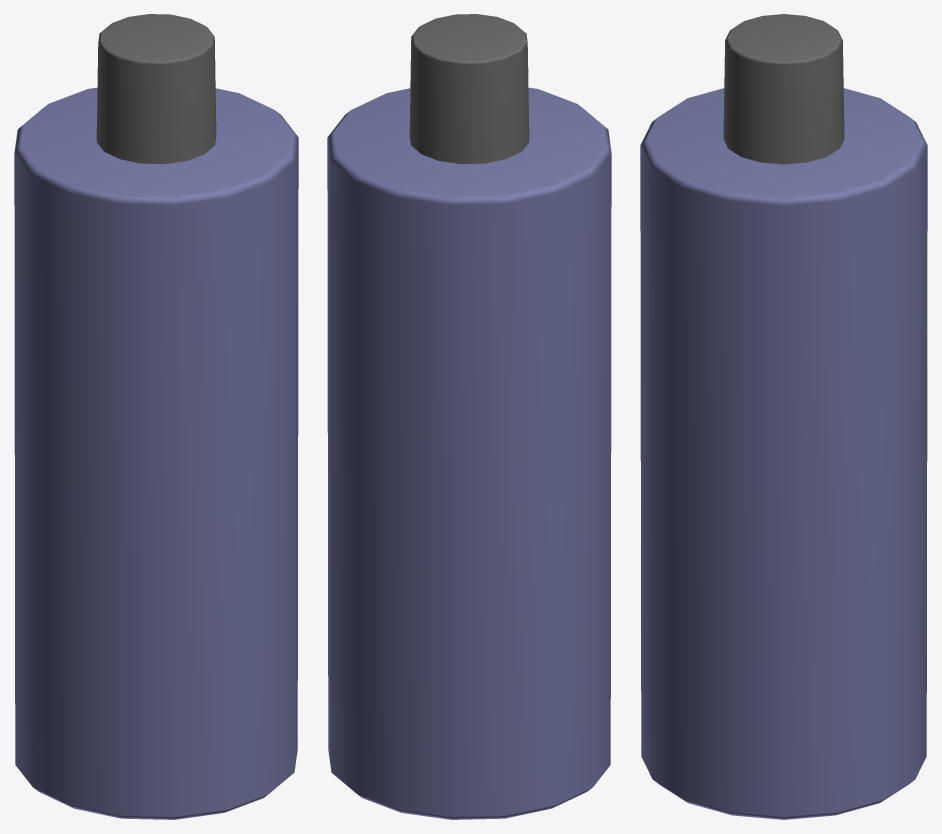
Rendered from Bottle_8.glb.
The picture shows the model from 3 angles, left to right: view 1: azimuth 30°, elevation 25°; view 2: azimuth 150°, elevation 25°; view 3: azimuth 270°, elevation 25°; orthographic projection.
Parts seen in each view (by area): view 1: Bottle_8; view 2: Bottle_8; view 3: Bottle_8.
Boxes of the visible parts, <box> form: Bottle_8: <box>14,14,298,819</box>; Bottle_8: <box>327,14,611,819</box>; Bottle_8: <box>640,14,927,819</box>.
Size of the model in its own units: 0.1182 by 0.3292 by 0.1182.
1 material, 1 textured.
